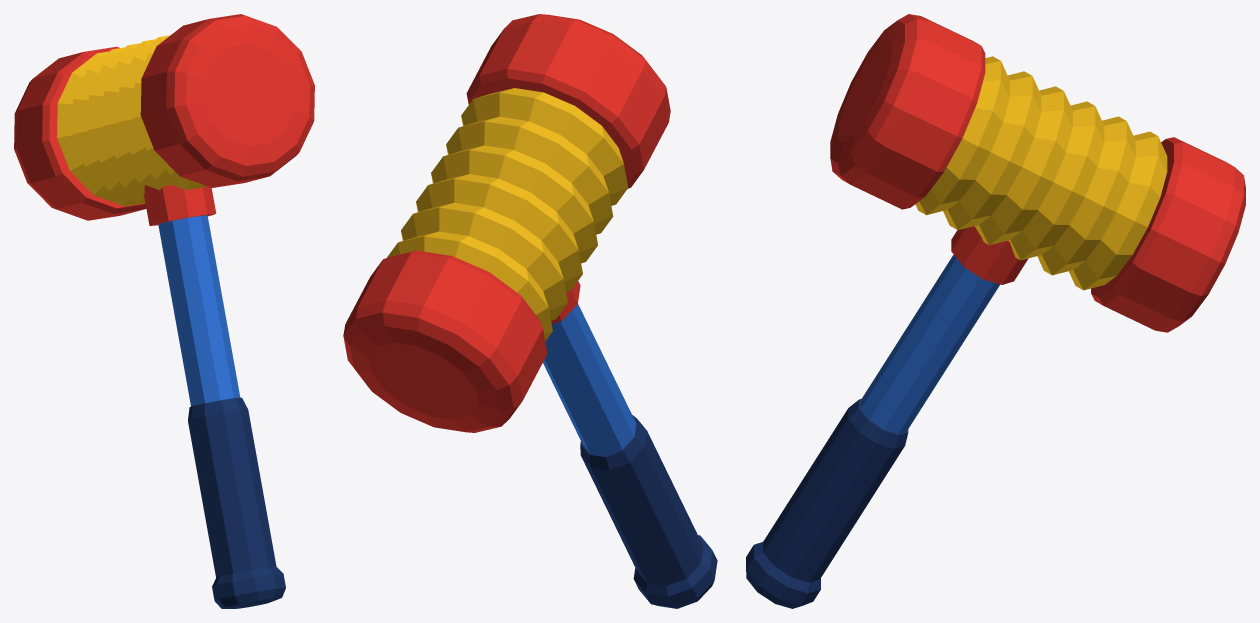
Rendered from hammer.glb.
The picture shows the model from 3 angles, left to right: view 1: azimuth 30°, elevation 25°; view 2: azimuth 150°, elevation 25°; view 3: azimuth 270°, elevation 25°; orthographic projection. The views are drawn at different scales.
Parts seen in each view (by area): view 1: capBack; view 2: capBack; view 3: capBack.
Part boxes in pixels (x1,y1,x2,y2): capBack: (14,14,314,608); capBack: (343,14,717,608); capBack: (746,14,1245,608).
Size of the model in its own units: 0.1116 by 0.3675 by 0.2785.
1 material, 1 textured.
